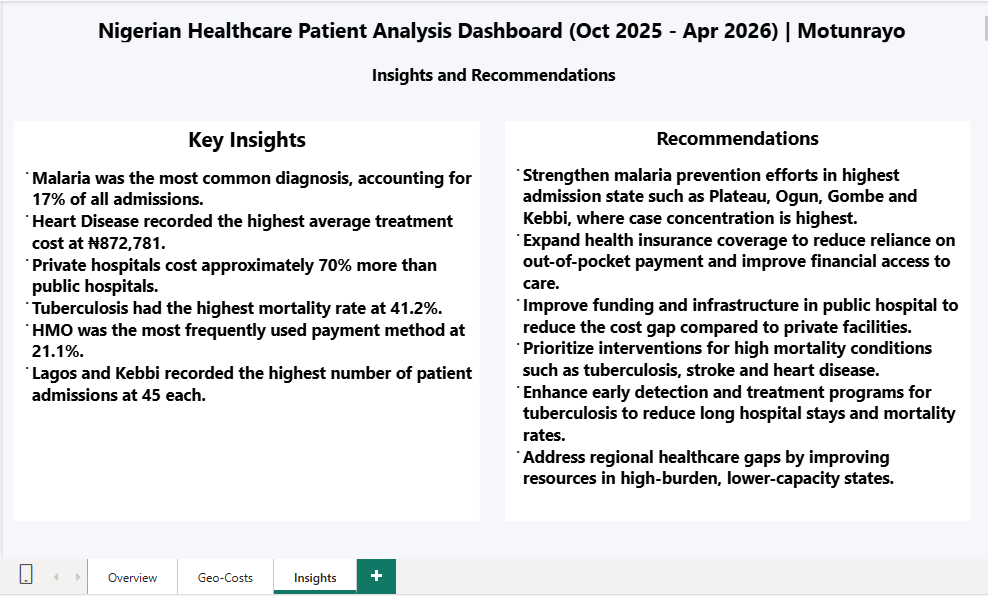

Layout of this report page (visuals, bound fields, positions):
{"tool":"powerbi","page":{"name":"Insights","canvas":[1280,720],"ordinal":2},"visuals":[{"type":"textbox","box":[14.3,14.3,1265.7,44.2],"z":1000},{"type":"textbox","box":[14.2,154.5,600.9,517.3],"z":2000},{"type":"textbox","box":[647.7,154.5,599.5,517.3],"z":3000},{"type":"textbox","box":[416.7,75.1,432.3,43.9],"z":4000}]}

Visuals, with their boxes on the page's 1280x720 design canvas (x1, y1, x2, y2). These are canvas units, not pixel positions in the 988x596 screenshot, which may show the page scaled, cropped or inside an application window:
textbox: (left=14, top=14, right=1280, bottom=58)
textbox: (left=14, top=154, right=615, bottom=672)
textbox: (left=648, top=154, right=1247, bottom=672)
textbox: (left=417, top=75, right=849, bottom=119)
